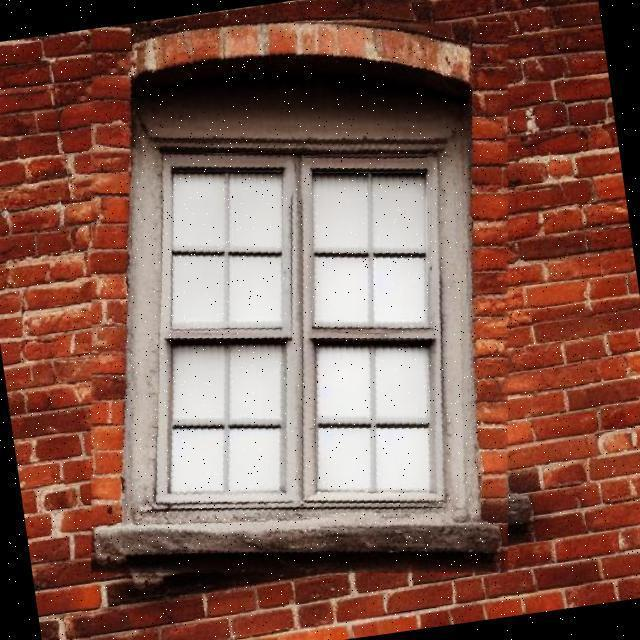window: (132, 80, 473, 520)
